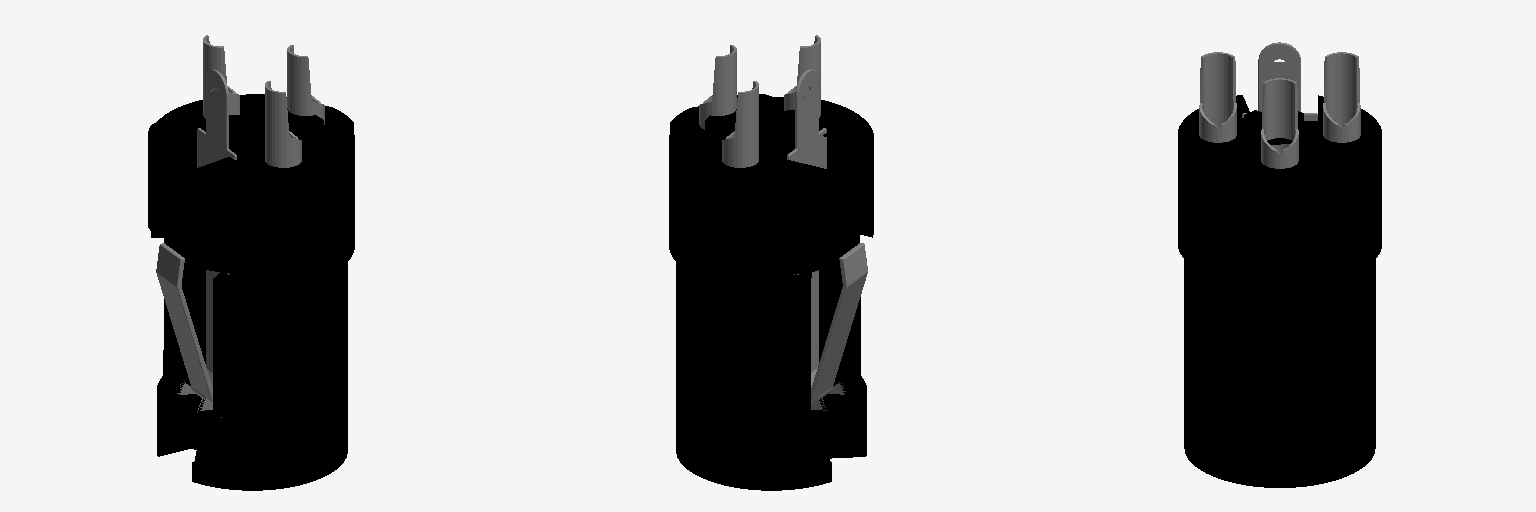
File: XLR_buchse.obj
The picture shows the model from 3 angles: view 1: azimuth 30°, elevation 25°; view 2: azimuth 150°, elevation 25°; view 3: azimuth 270°, elevation 25°; orthographic projection.
Parts seen in each view (by area): view 1: Cylinder; view 2: Cylinder; view 3: Cylinder.
Part boxes in pixels (x1,y1,x2,y2): Cylinder: (148,35,354,490); Cylinder: (669,35,873,490); Cylinder: (1178,42,1381,487).
Size of the model in its own units: 0.0138 by 0.0286 by 0.0137.